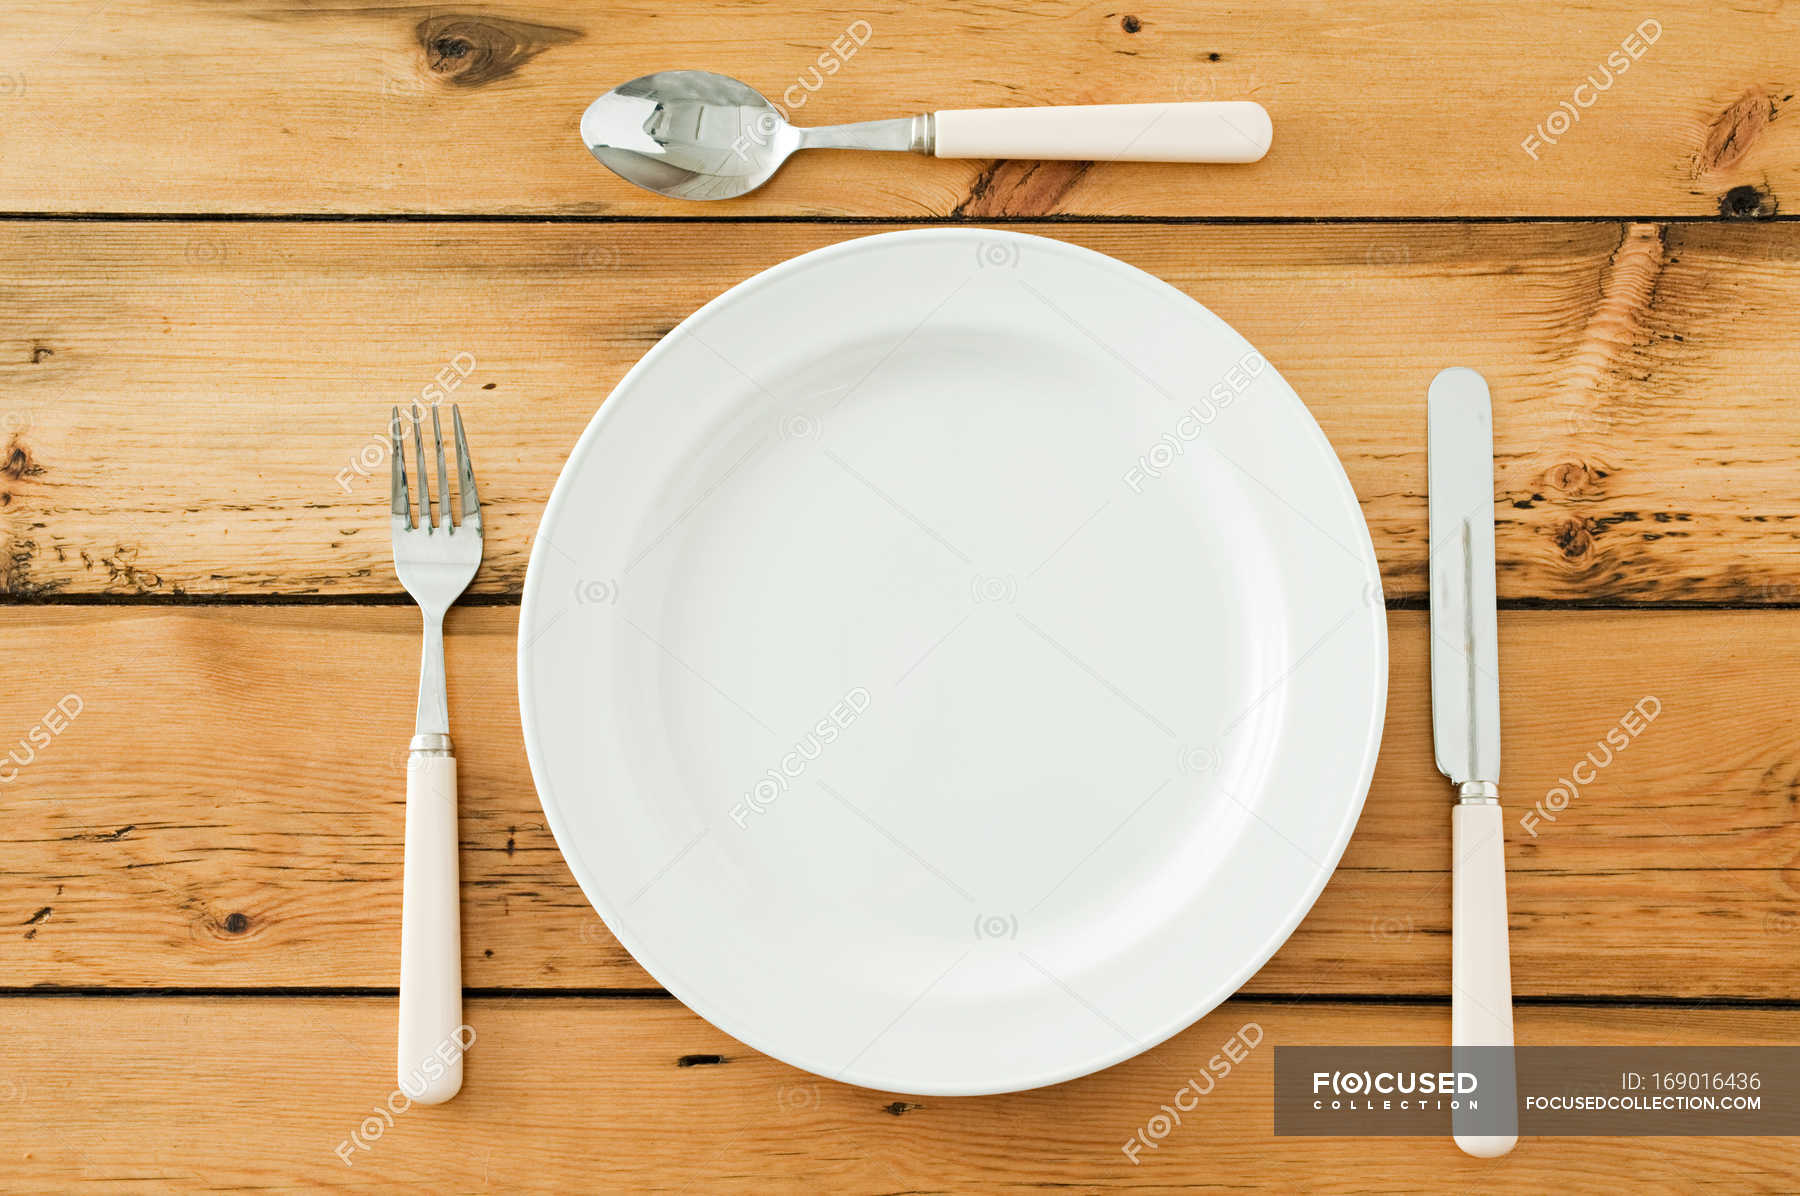plate: (507, 223, 1398, 1107)
